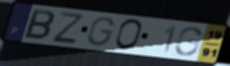1: (163, 26, 177, 54)
B: (22, 8, 56, 42)
G: (86, 16, 116, 48), (173, 26, 203, 58)
O: (113, 18, 144, 52)
Z: (51, 10, 85, 44)
